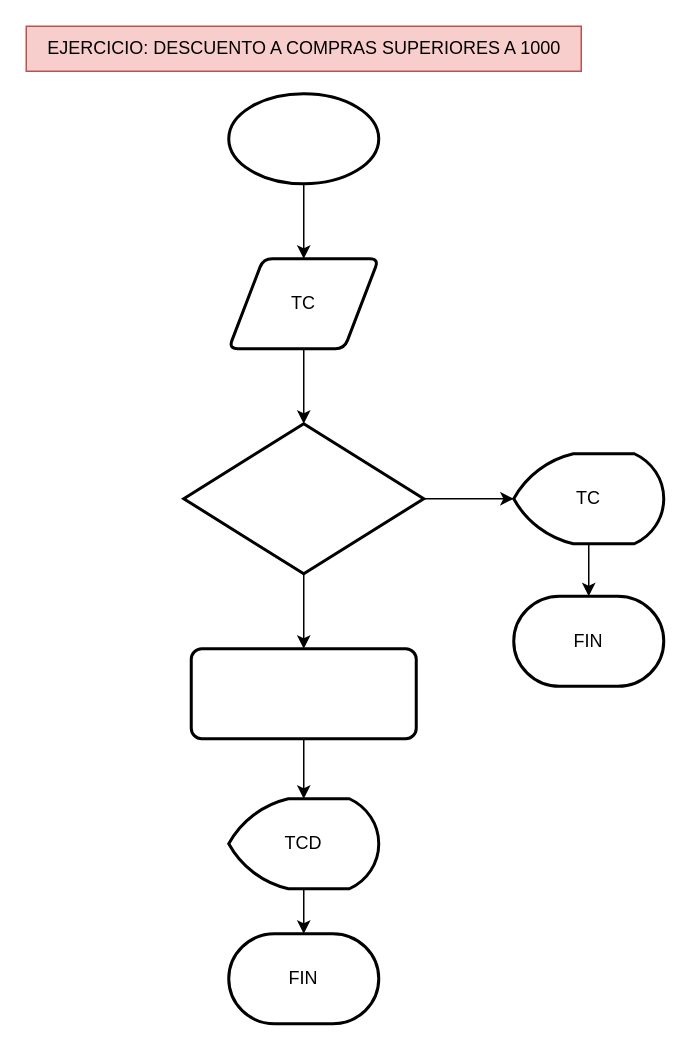
Image size: 692x1052. Some labels were removed from this diagram. The centre of each missing label's shape, as x and y in pixels:
INICIO: point 303,138
TC>1000: point 303,498
TCD=TC-(TC*0.10): point 303,693
